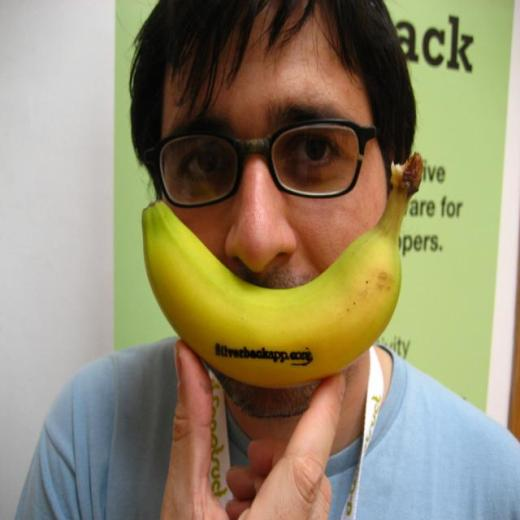Banana: (143, 153, 423, 385)
